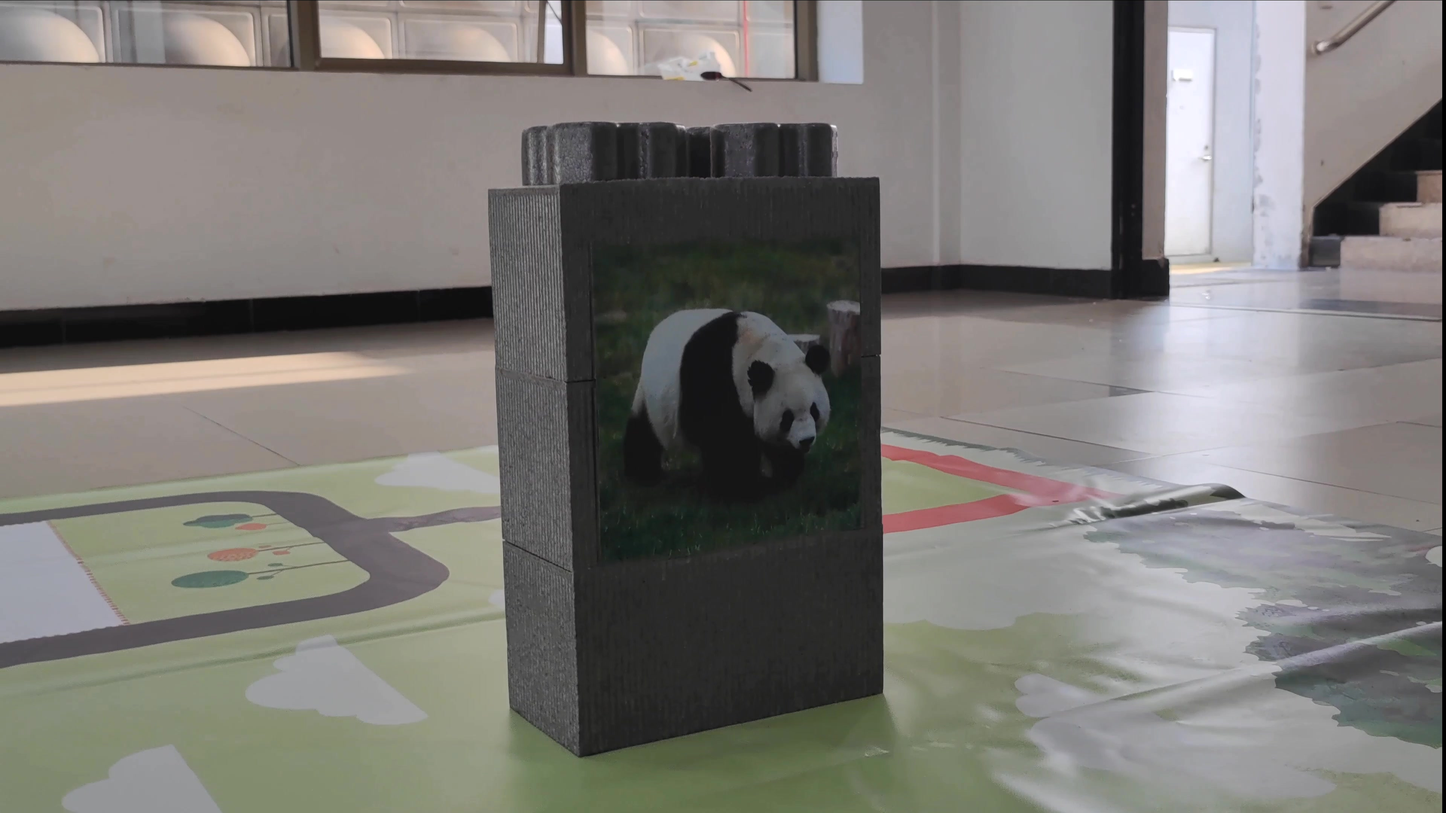panda: (600, 288, 840, 487)
